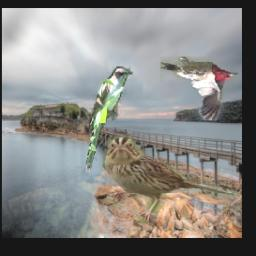Cuckoo: (86, 67, 133, 172)
Sparrow: (101, 136, 238, 224)
Woodpecker: (160, 57, 239, 121)
